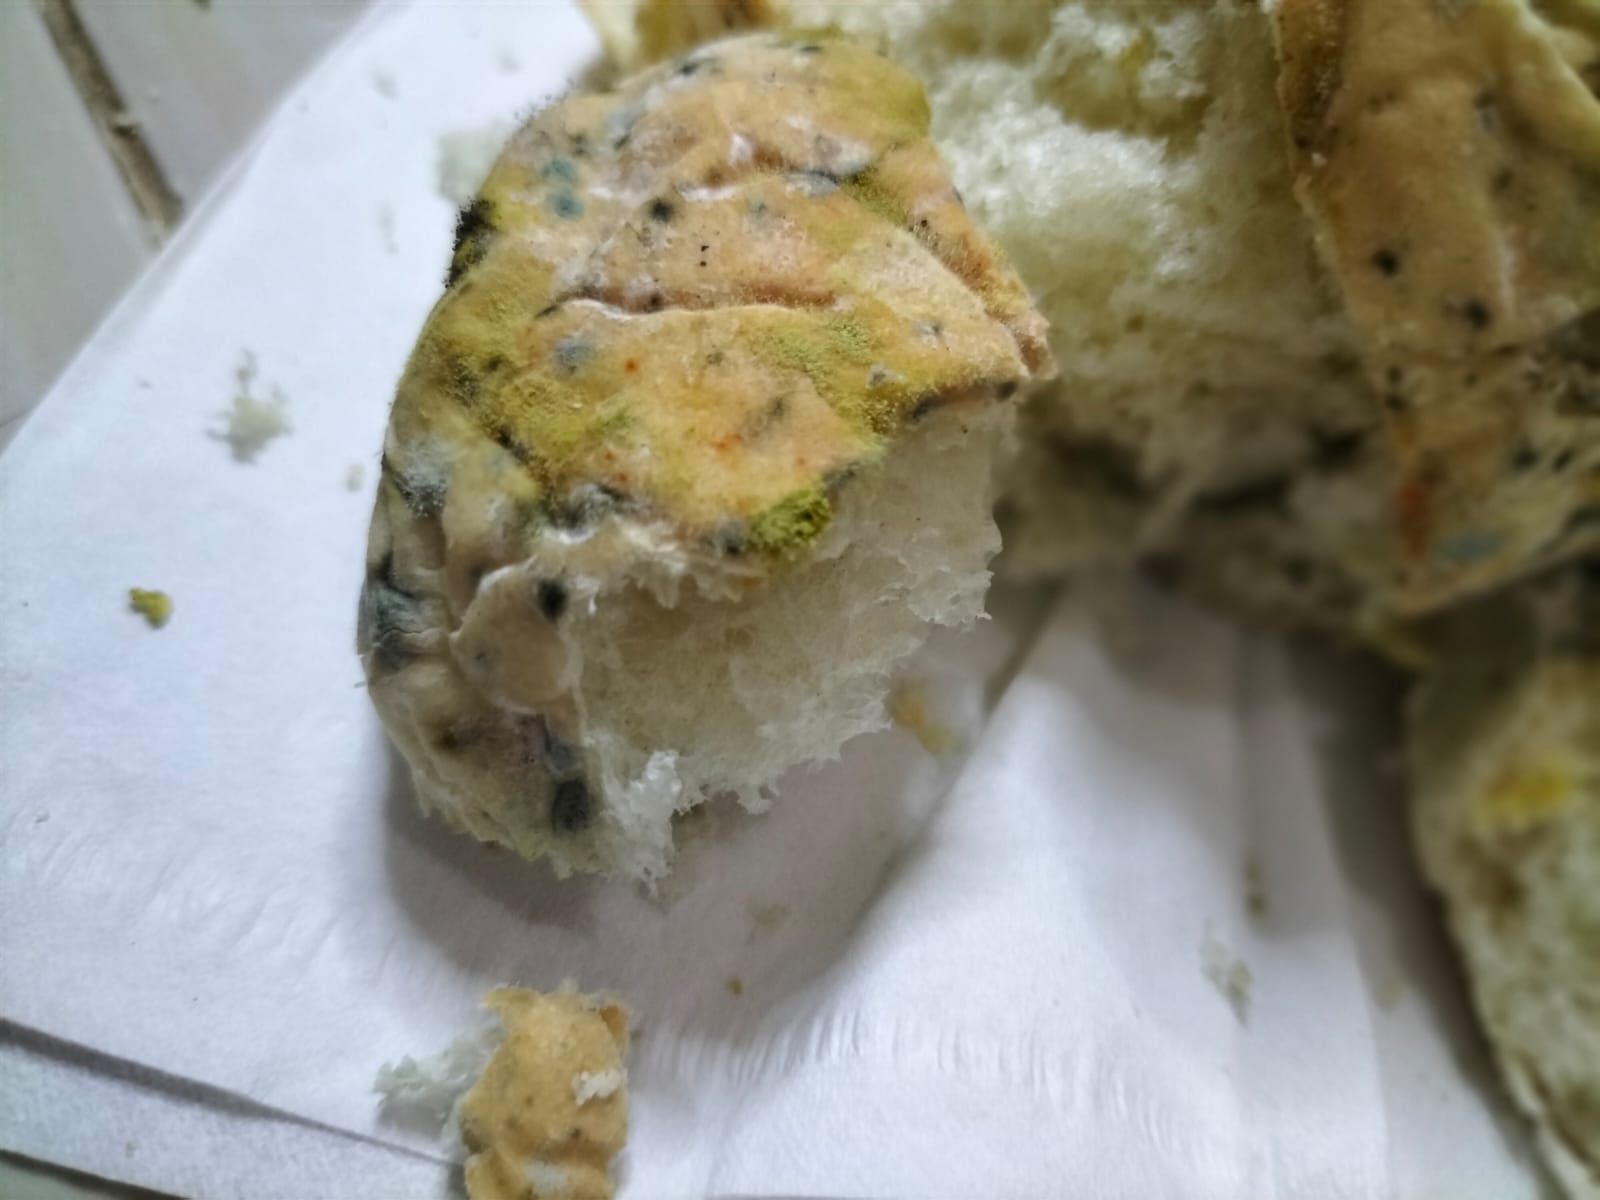mold_bread: (422, 142, 626, 498), (726, 292, 951, 434), (449, 710, 605, 850), (336, 528, 432, 705), (732, 155, 915, 247), (687, 482, 864, 568), (762, 25, 934, 107), (519, 565, 585, 637), (637, 179, 690, 234)
